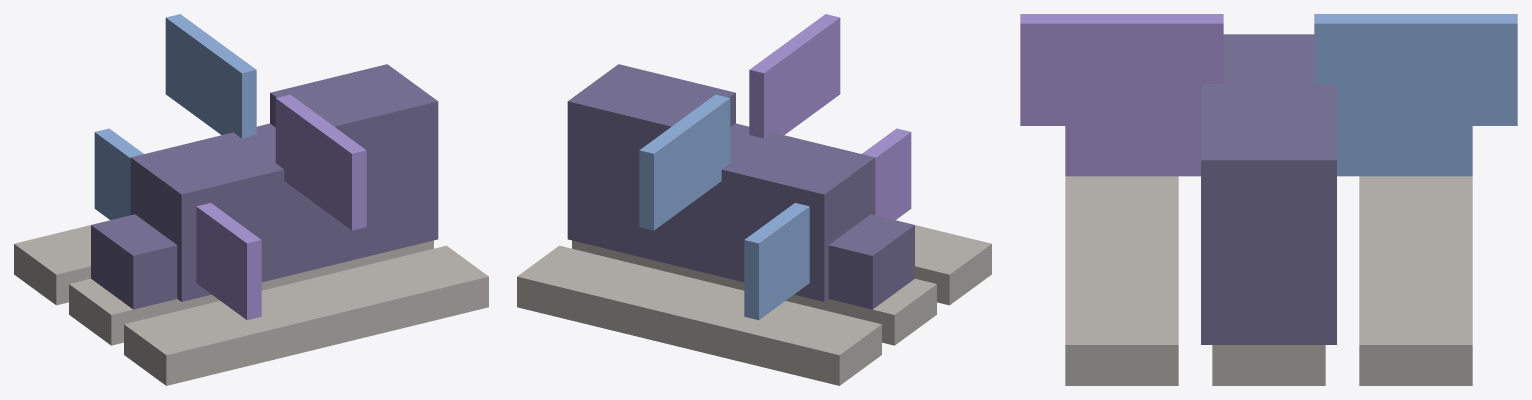
File: 36-Fauna_mariposa.glb
3 renders of one model, left to right at view 1: azimuth 30°, elevation 25°; view 2: azimuth 150°, elevation 25°; view 3: azimuth 270°, elevation 25°, orthographic. The views are drawn at different scales.
Parts seen in each view (by area): view 1: SM_Mariposa_Cuerpo_NOFUNDIR, SM_Mariposa_Rodela_NOFUNDIR, SM_Mariposa_Ala_L_NOFUNDIR, SM_Mariposa_Ala_R_NOFUNDIR; view 2: SM_Mariposa_Cuerpo_NOFUNDIR, SM_Mariposa_Rodela_NOFUNDIR, SM_Mariposa_Ala_R_NOFUNDIR, SM_Mariposa_Ala_L_NOFUNDIR; view 3: SM_Mariposa_Rodela_NOFUNDIR, SM_Mariposa_Cuerpo_NOFUNDIR, SM_Mariposa_Ala_L_NOFUNDIR, SM_Mariposa_Ala_R_NOFUNDIR.
Part boxes in pixels (bbox=[...]): SM_Mariposa_Cuerpo_NOFUNDIR: bbox=[91, 64, 438, 309]; SM_Mariposa_Rodela_NOFUNDIR: bbox=[14, 225, 488, 385]; SM_Mariposa_Ala_L_NOFUNDIR: bbox=[196, 94, 366, 320]; SM_Mariposa_Ala_R_NOFUNDIR: bbox=[94, 14, 256, 219]; SM_Mariposa_Cuerpo_NOFUNDIR: bbox=[567, 64, 914, 309]; SM_Mariposa_Rodela_NOFUNDIR: bbox=[517, 225, 991, 385]; SM_Mariposa_Ala_R_NOFUNDIR: bbox=[639, 94, 809, 320]; SM_Mariposa_Ala_L_NOFUNDIR: bbox=[749, 14, 911, 219]; SM_Mariposa_Rodela_NOFUNDIR: bbox=[1065, 176, 1472, 385]; SM_Mariposa_Cuerpo_NOFUNDIR: bbox=[1201, 34, 1336, 344]; SM_Mariposa_Ala_L_NOFUNDIR: bbox=[1020, 14, 1223, 176]; SM_Mariposa_Ala_R_NOFUNDIR: bbox=[1314, 14, 1517, 176].
Bounding box in the file's own units: 0.44 × 0.265 × 0.44.
